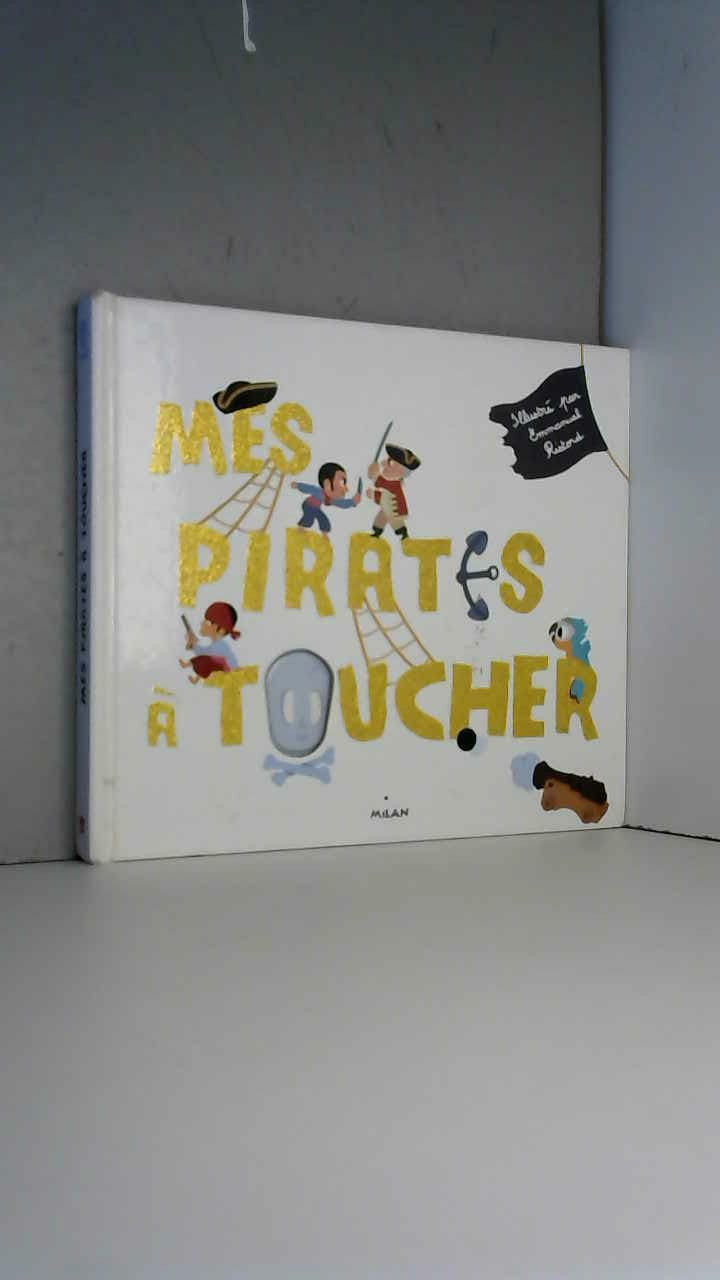book: (54, 274, 650, 884)
